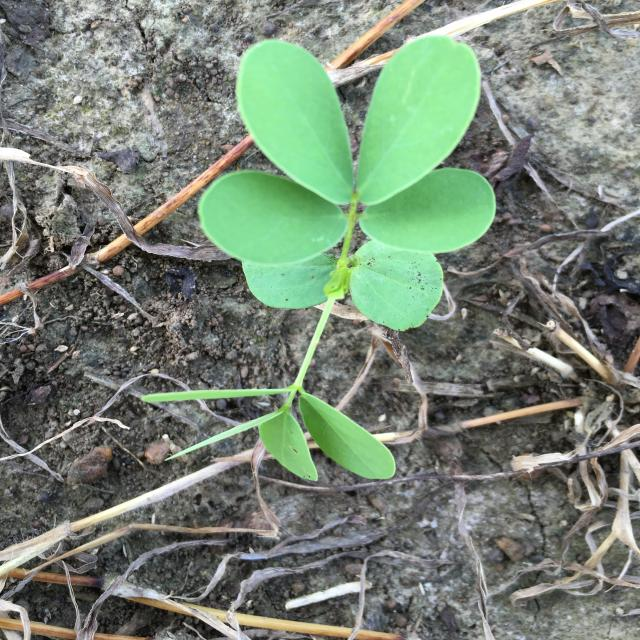Sicklepod: (142, 35, 496, 482)
